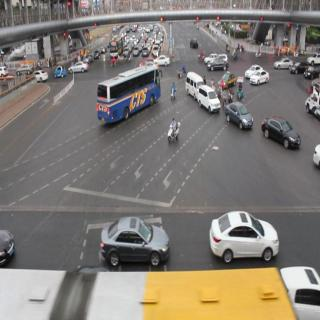BigCar: (96, 64, 164, 124), (109, 38, 122, 58)
Car: (96, 216, 172, 268), (209, 212, 281, 265), (262, 112, 300, 153), (224, 101, 256, 130), (199, 86, 219, 115), (185, 70, 200, 104), (68, 60, 90, 79), (250, 70, 270, 88), (272, 56, 292, 71), (244, 60, 262, 76), (304, 64, 318, 84), (206, 59, 229, 71), (16, 64, 32, 79), (154, 54, 171, 68), (32, 71, 48, 85), (54, 64, 68, 80), (291, 60, 305, 74), (142, 46, 150, 60), (189, 38, 199, 48), (133, 47, 140, 58), (123, 47, 130, 58)
